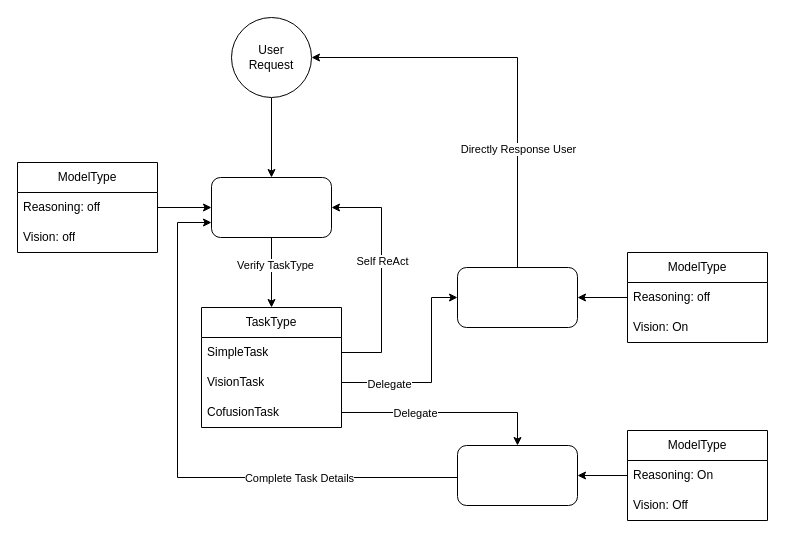
This 785x538 diagram has some shape labels left out. The centre of each missing label's shape, as x and y in pixels:
"Orchestrator Agent" belongs at point 271,207.
"Planner Agent" belongs at point 517,475.
"Vision Agent" belongs at point 517,297.
